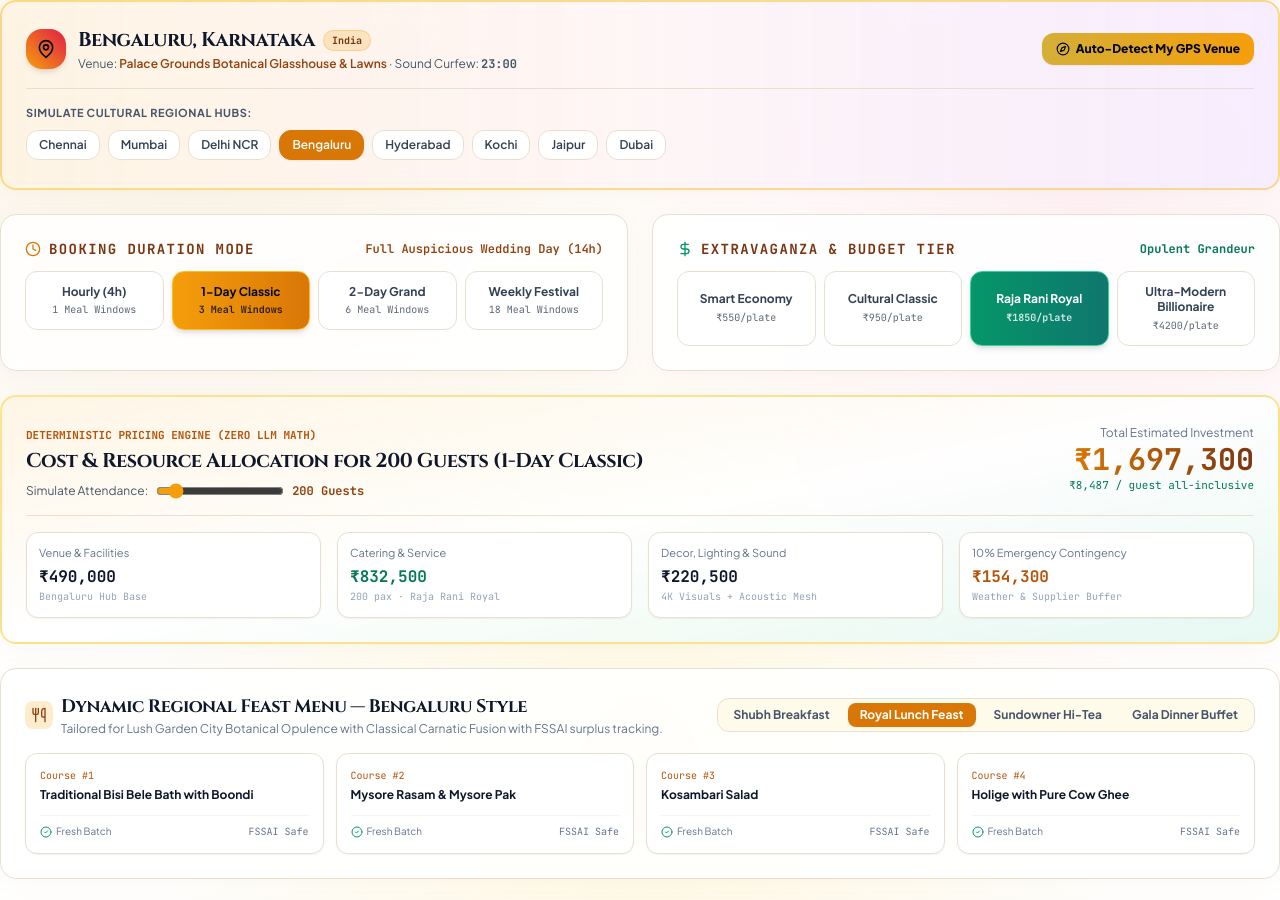
Scenario: DynamicItineraryMenu Unit Tests › adjusts duration tier and budget tier to recalculate totals dynamically
# Switch duration to 2 Days
Step 1. Click the button "2-Day Grand 6 Meal Windows" → (387, 300), box [318,270,456,330]
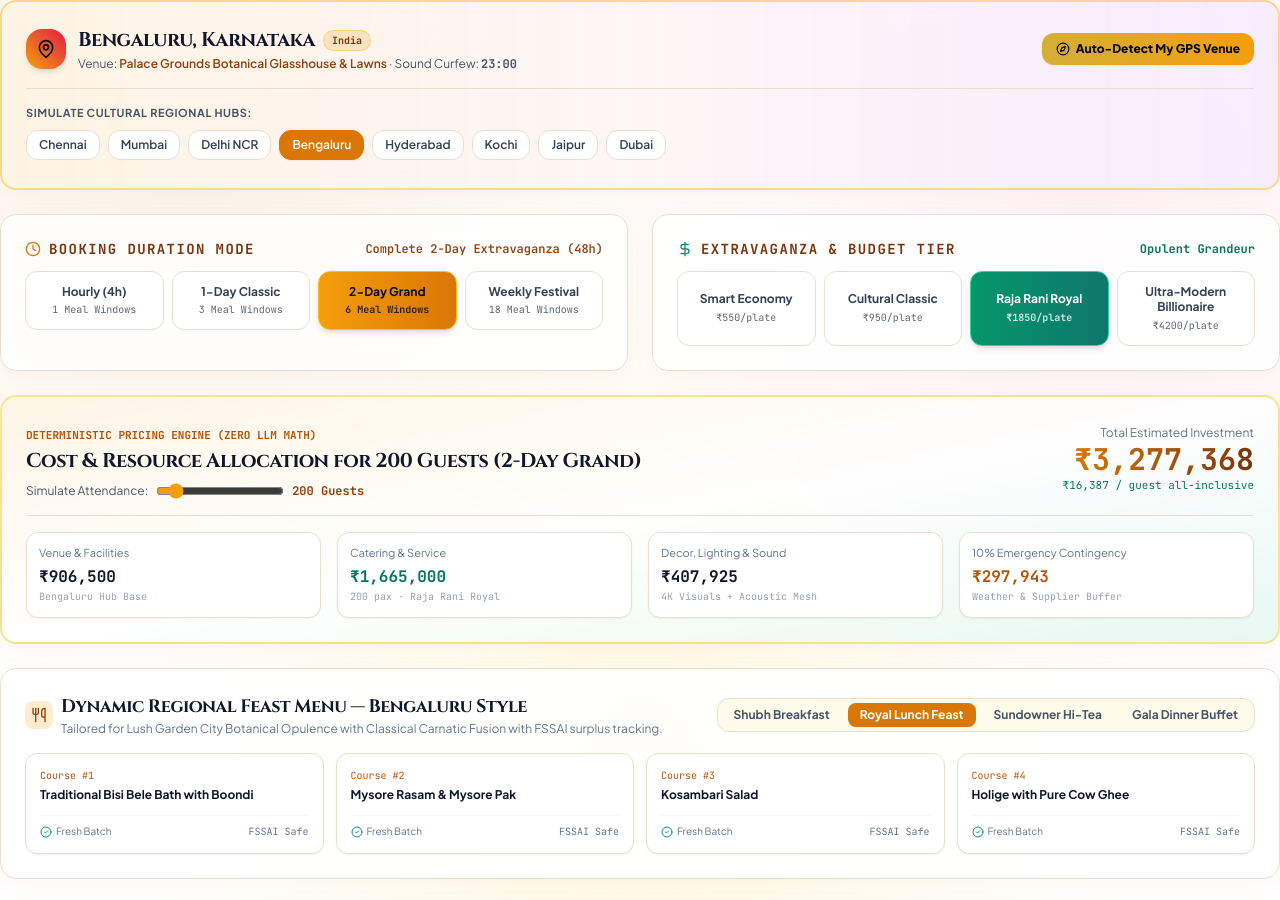
# Switch budget tier to Billionaire / Ambani
Step 2. Click the button "Ultra-Modern Billionaire ₹4200/plate" → (1186, 308), box [1116,270,1255,346]
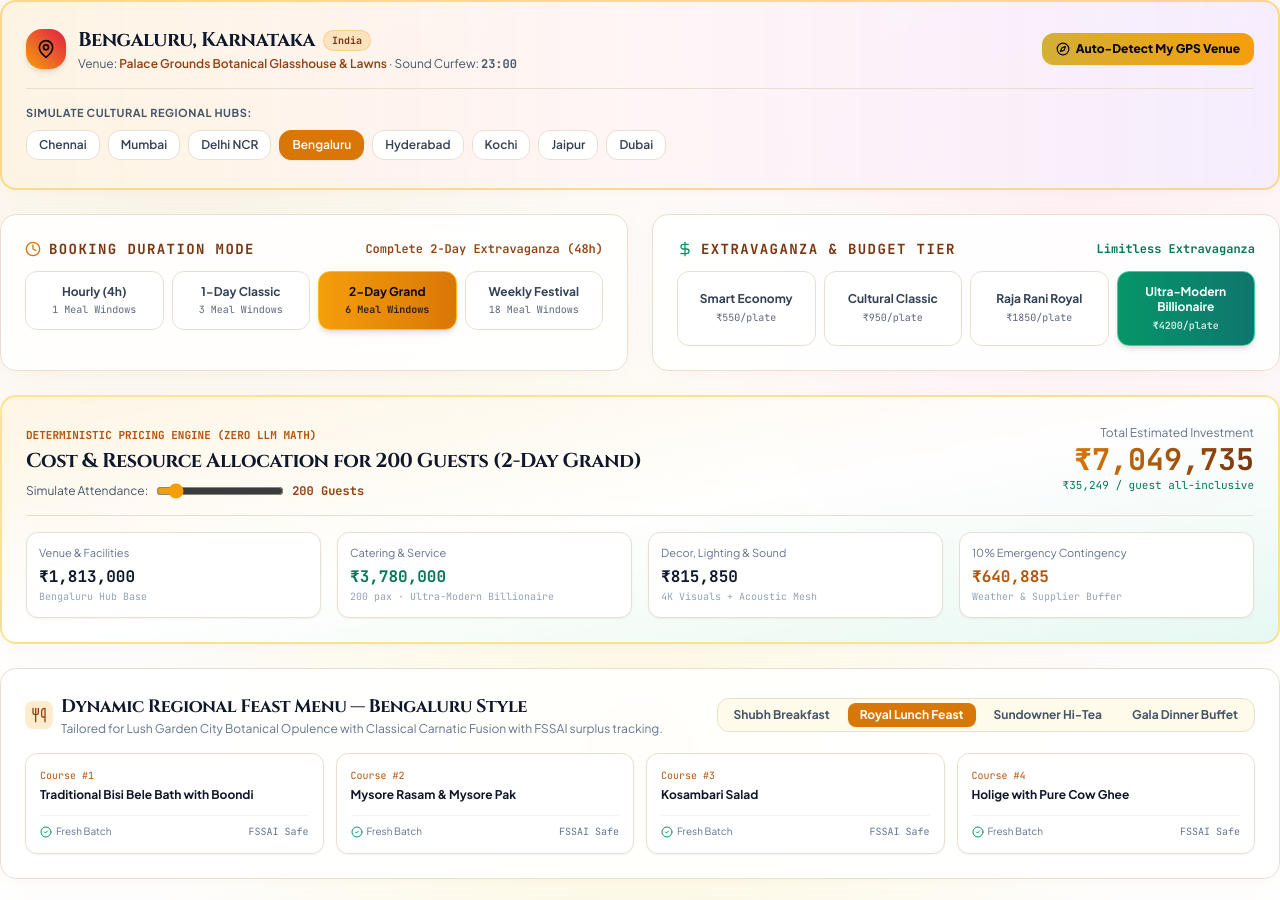
Result: the text "Limitless Extravaganza" is shown at [1097,240,1255,256]
